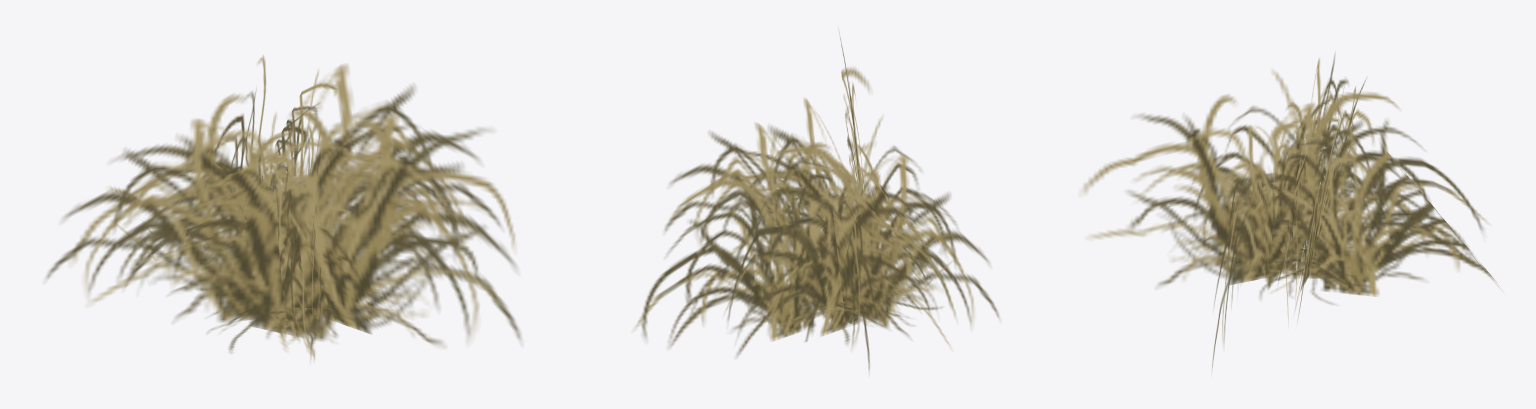
File: ichu_05.glb
3 views of the same model, side by side, from view 1: azimuth 30°, elevation 25°; view 2: azimuth 150°, elevation 25°; view 3: azimuth 270°, elevation 25° (orthographic). The views are drawn at different scales.
Parts seen in each view (by area): view 1: Ichu; view 2: Ichu; view 3: Ichu.
Boxes of the visible parts, <box> form: Ichu: <box>46,55,521,360</box>; Ichu: <box>634,32,999,371</box>; Ichu: <box>1082,54,1499,368</box>.
Bounding box in the file's own units: 0.5183 × 0.31 × 0.5196.
Materials: 1 (1 with a texture image).
